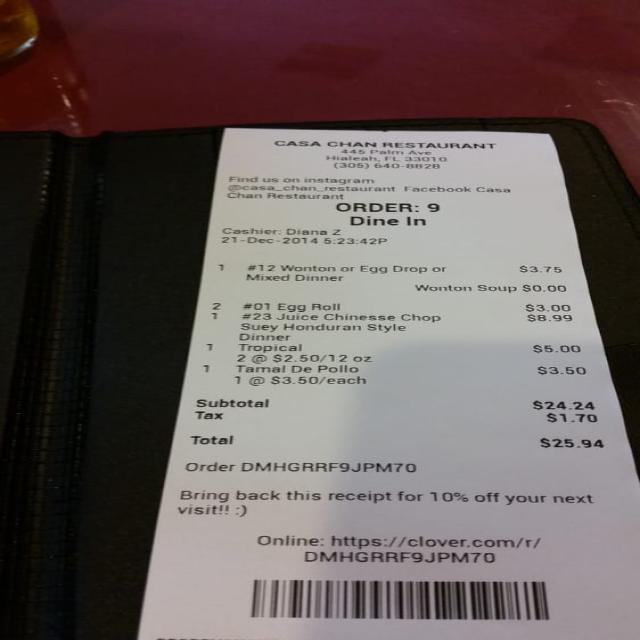Paper: (134, 126, 640, 640)
